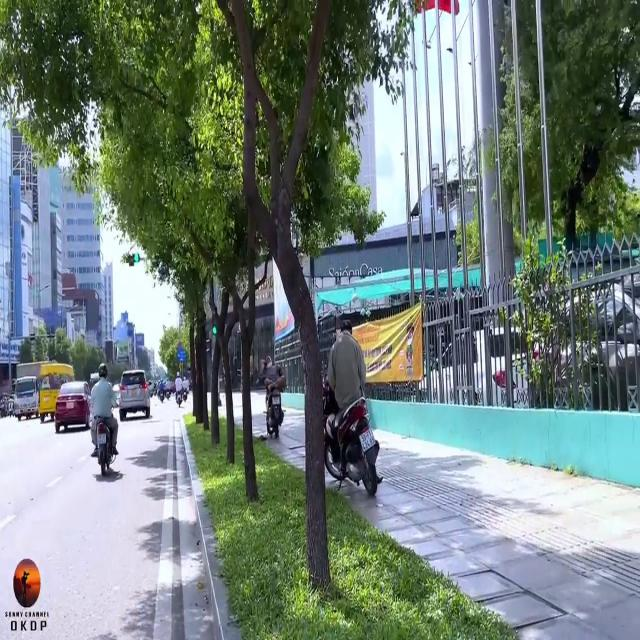bien_trang: (356, 428, 379, 452)
